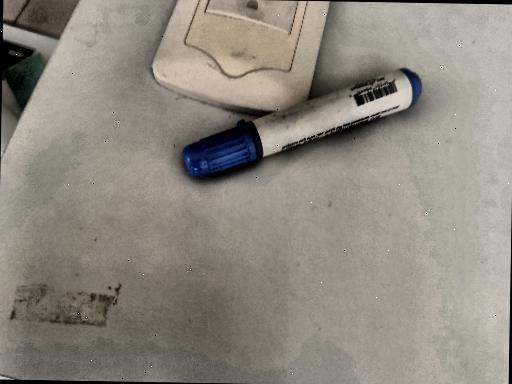marcador azul: (183, 69, 421, 177)
